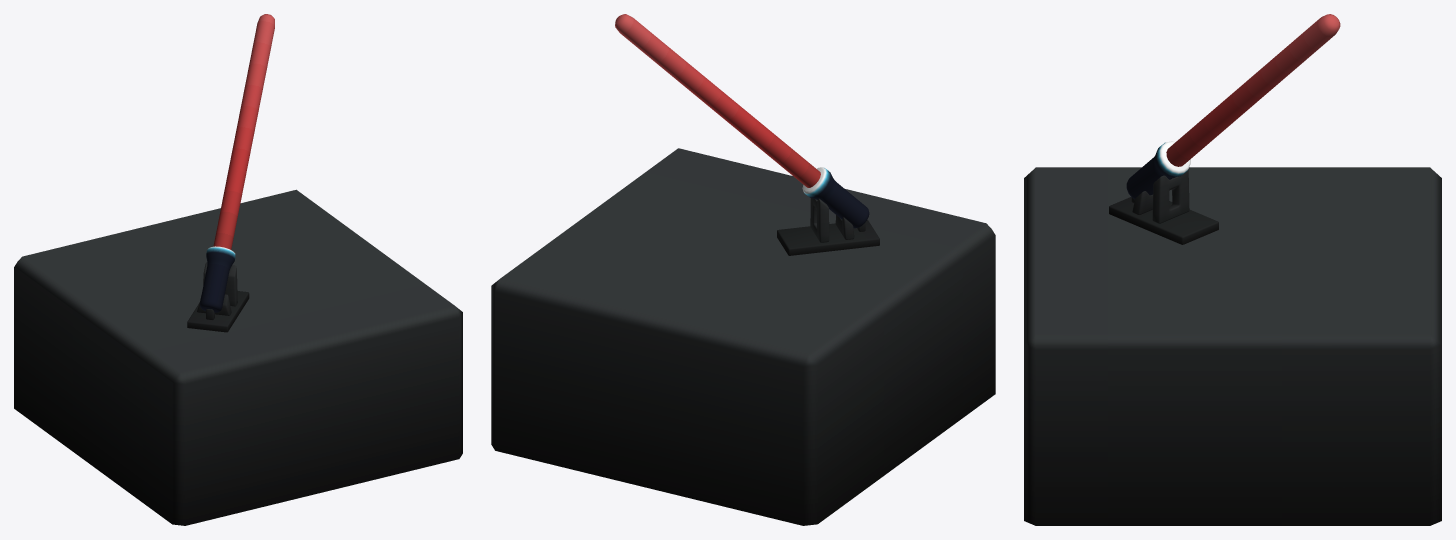
Rendered from Light_saber_Red.fbx.
The picture shows the model from 3 angles, left to right: view 1: azimuth 30°, elevation 25°; view 2: azimuth 150°, elevation 25°; view 3: azimuth 270°, elevation 25°; orthographic projection. The views are drawn at different scales.
Parts seen in each view (by area): view 1: Light saber; view 2: Light saber; view 3: Light saber.
Part boxes in pixels (x1=…): Light saber: x1=14, y1=14, x2=462, y2=525; Light saber: x1=491, y1=14, x2=995, y2=525; Light saber: x1=1024, y1=14, x2=1441, y2=525.
Size of the model in its own units: 79.47 by 97.18 by 79.47.
